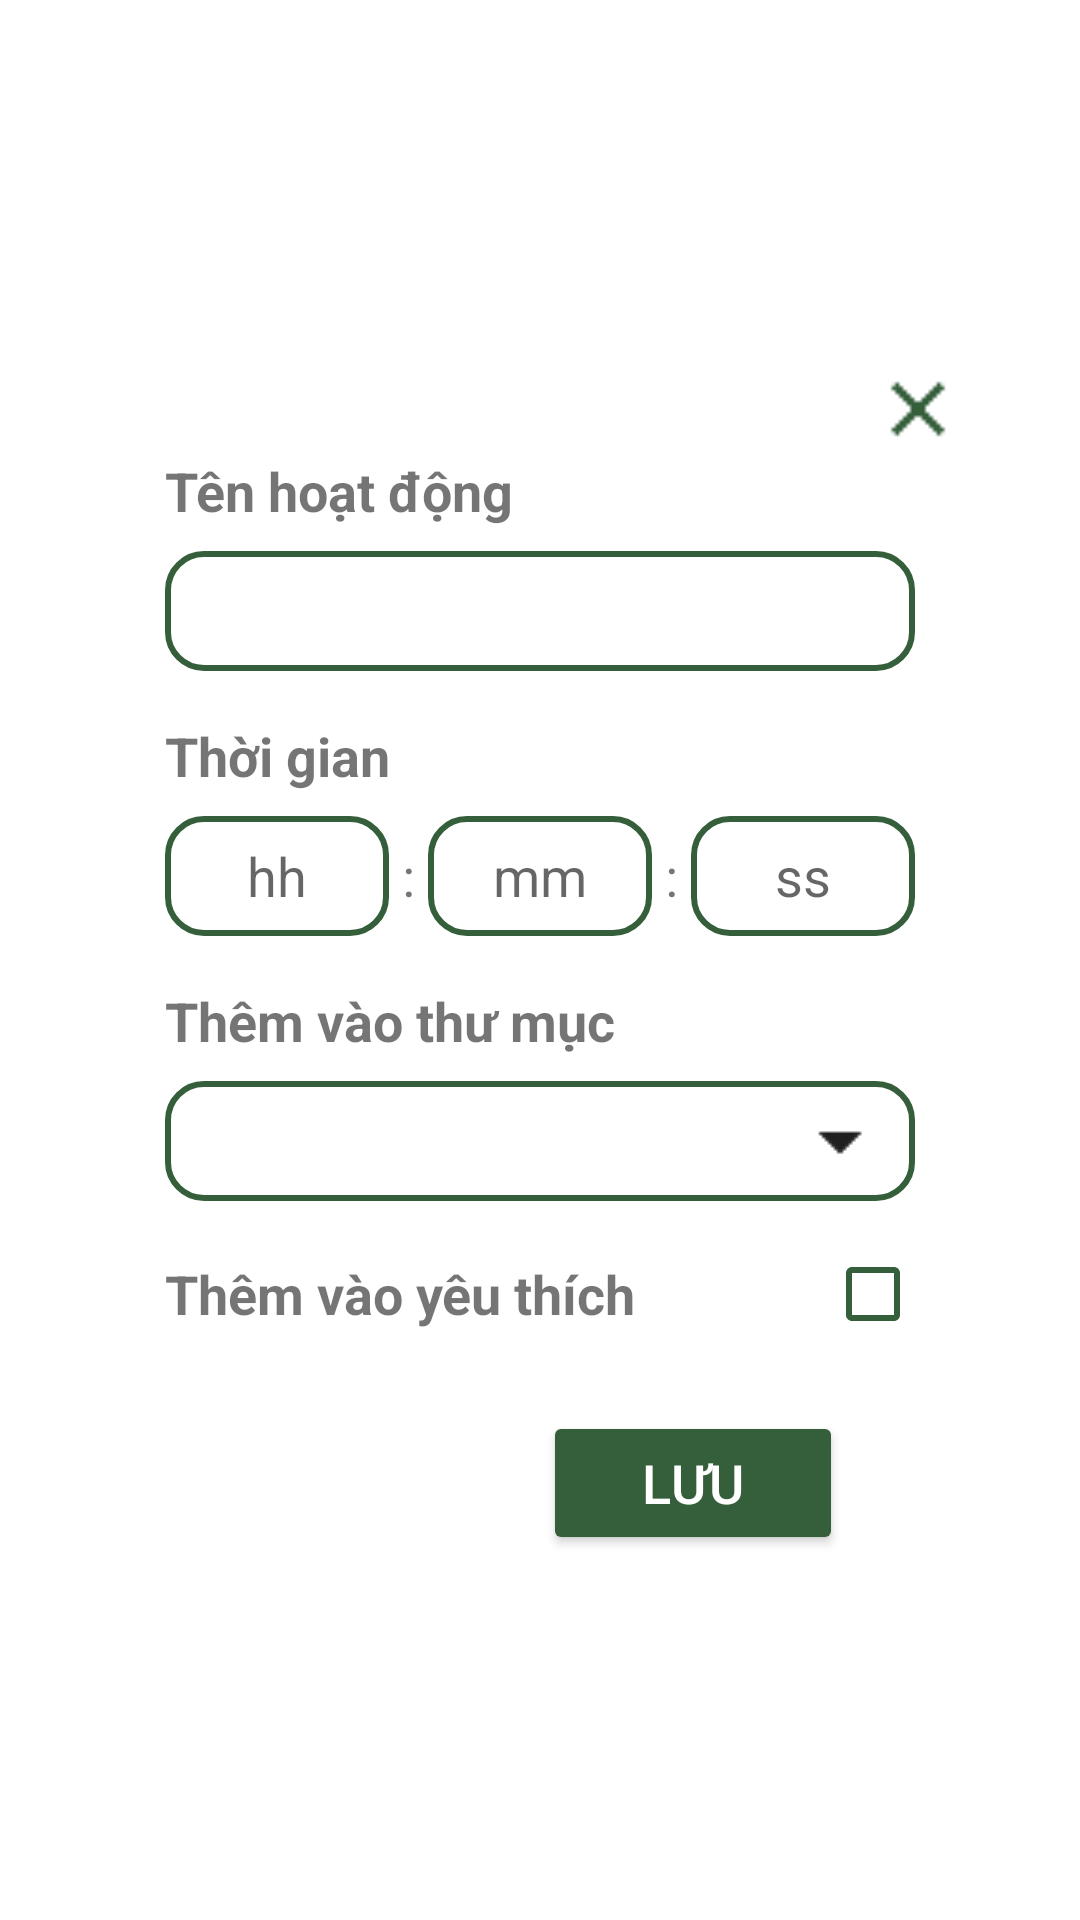

Locate icon controls on the screen. Image size 1080×1920, boxes as (x1, y1, x2, y2).
close: (890, 381, 946, 437)
